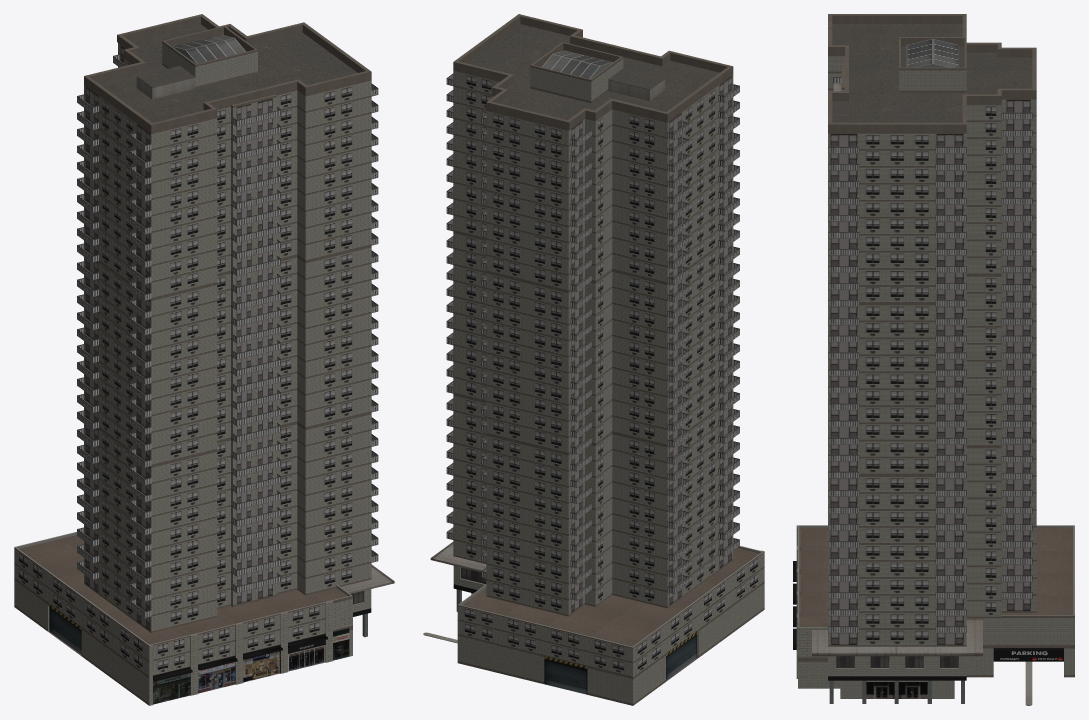
Rendered from hirise1.FBX.
3 renders of one model, left to right at view 1: azimuth 30°, elevation 25°; view 2: azimuth 150°, elevation 25°; view 3: azimuth 270°, elevation 25°, orthographic. The views are drawn at different scales.
Parts seen in each view (by area): view 1: hirise1; view 2: hirise1; view 3: hirise1.
Part boxes in pixels (x1,y1,x2,y2): hirise1: (14, 14, 394, 705); hirise1: (423, 14, 764, 705); hirise1: (793, 14, 1074, 705).
Size of the model in its own units: 52.4 by 115 by 49.21.
1 material, 1 textured.
